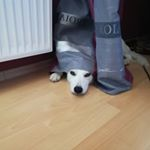puppy: (64, 68, 97, 100)
